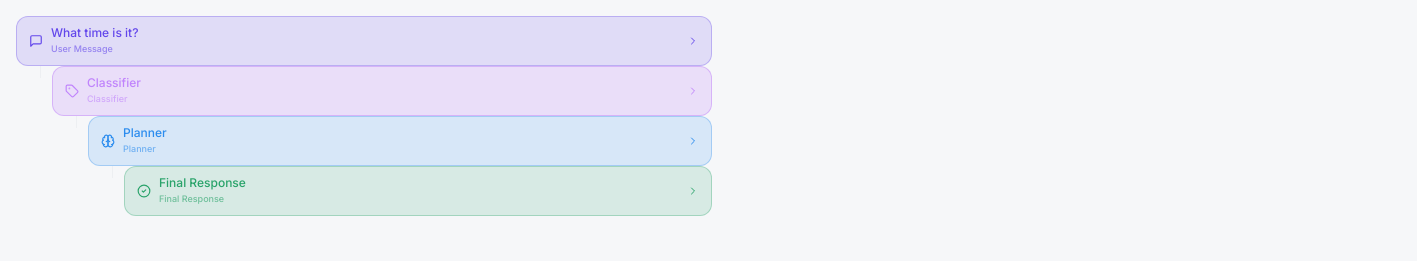
Scenario: UX1: Classifier detail panel › shows privacy_mode in classifier detail panel
Step 1. Click the button "Classifier Classifier" → (114, 82), box [52, 66, 712, 116]
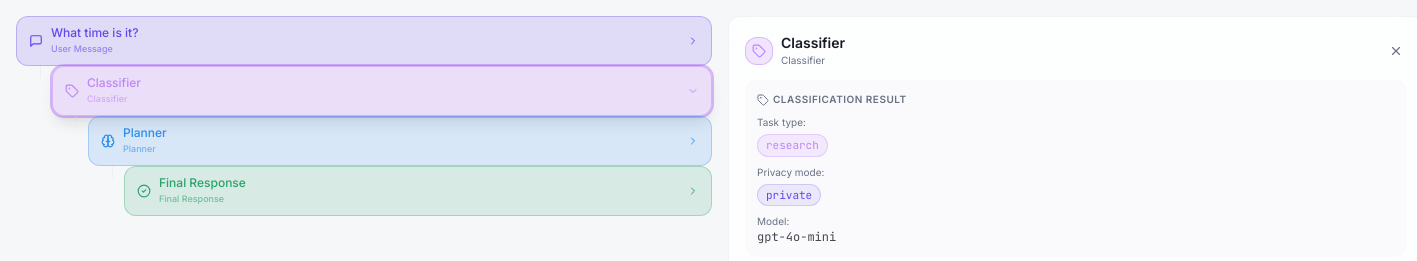
Result: the text "research" is shown at [757, 134, 828, 156]
Result: the text "private" is shown at [757, 184, 821, 206]
